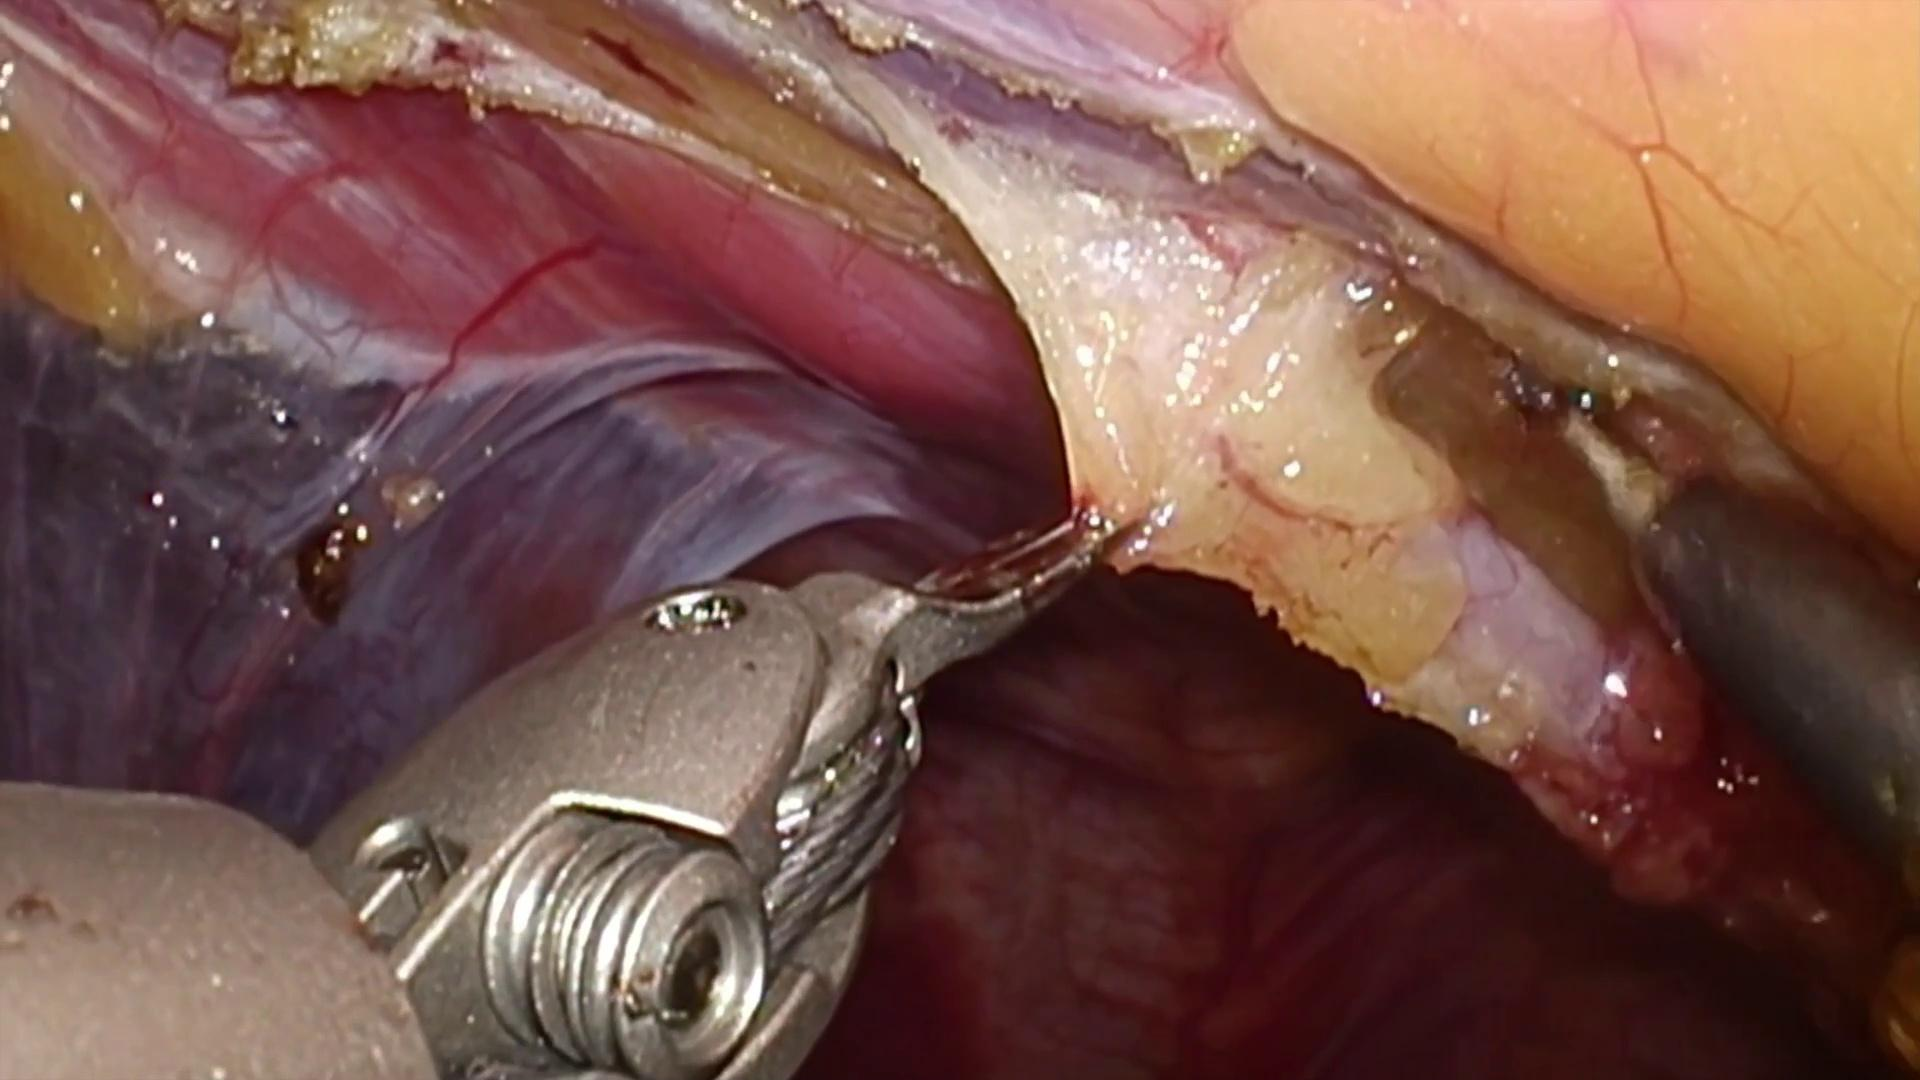Cautery_Spatula: (1514, 372, 1920, 934)
Debakey: (804, 509, 1158, 724)
